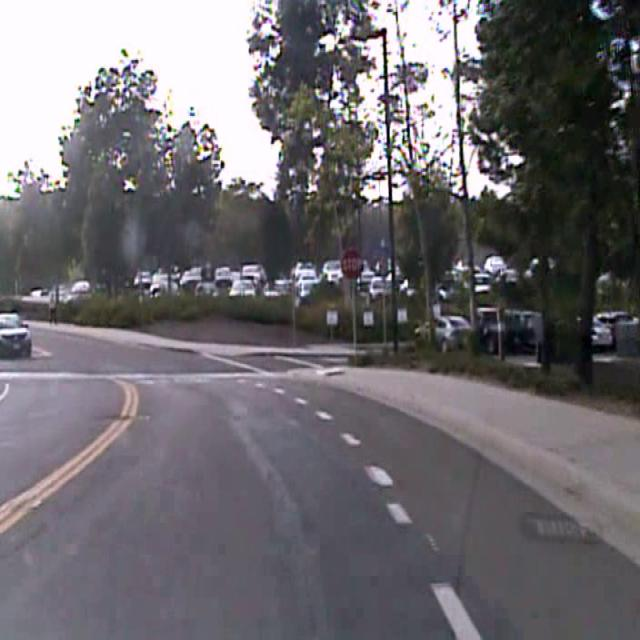stop: (339, 246, 365, 282)
